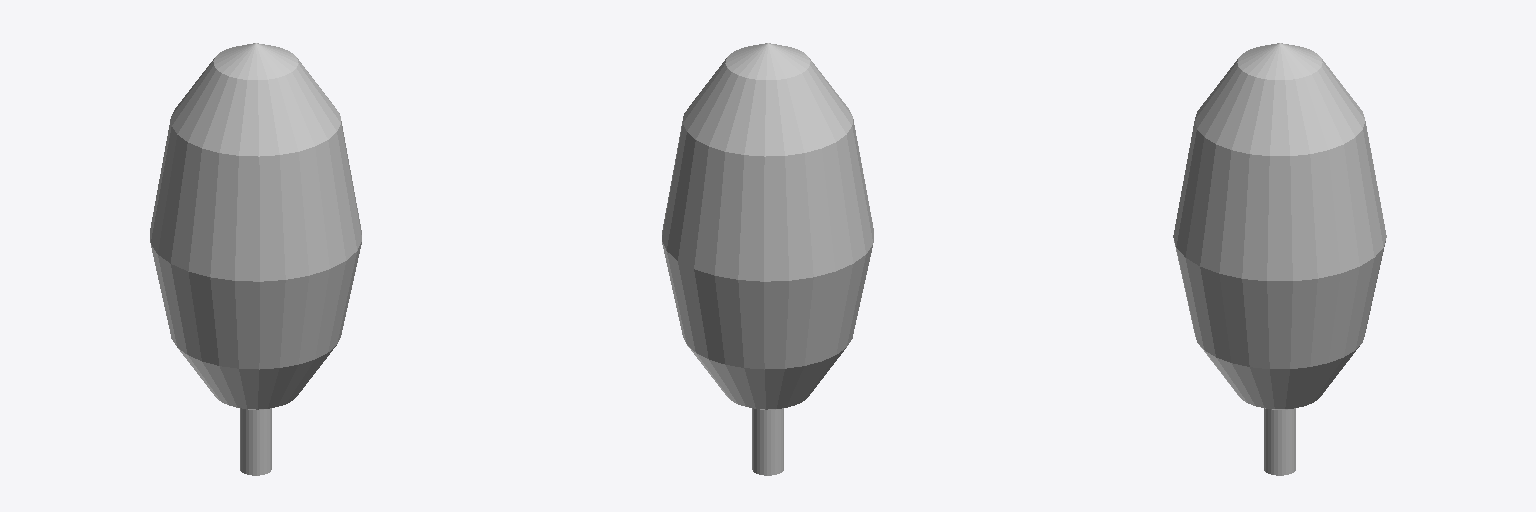
File: Prop_Decorative_Tree_Elm_1.obj
3 views of the same model, side by side, from view 1: azimuth 30°, elevation 25°; view 2: azimuth 150°, elevation 25°; view 3: azimuth 270°, elevation 25° (orthographic).
Parts seen in each view (by area): view 1: object2, object1; view 2: object2, object1; view 3: object2, object1.
Part boxes in pixels (bbox=[...]): object2: bbox=[150, 43, 361, 409]; object1: bbox=[240, 408, 271, 475]; object2: bbox=[662, 43, 873, 409]; object1: bbox=[752, 408, 783, 475]; object2: bbox=[1173, 43, 1386, 409]; object1: bbox=[1264, 408, 1295, 475].
Bounding box in the file's own units: 0.4964 × 1.1 × 0.5.